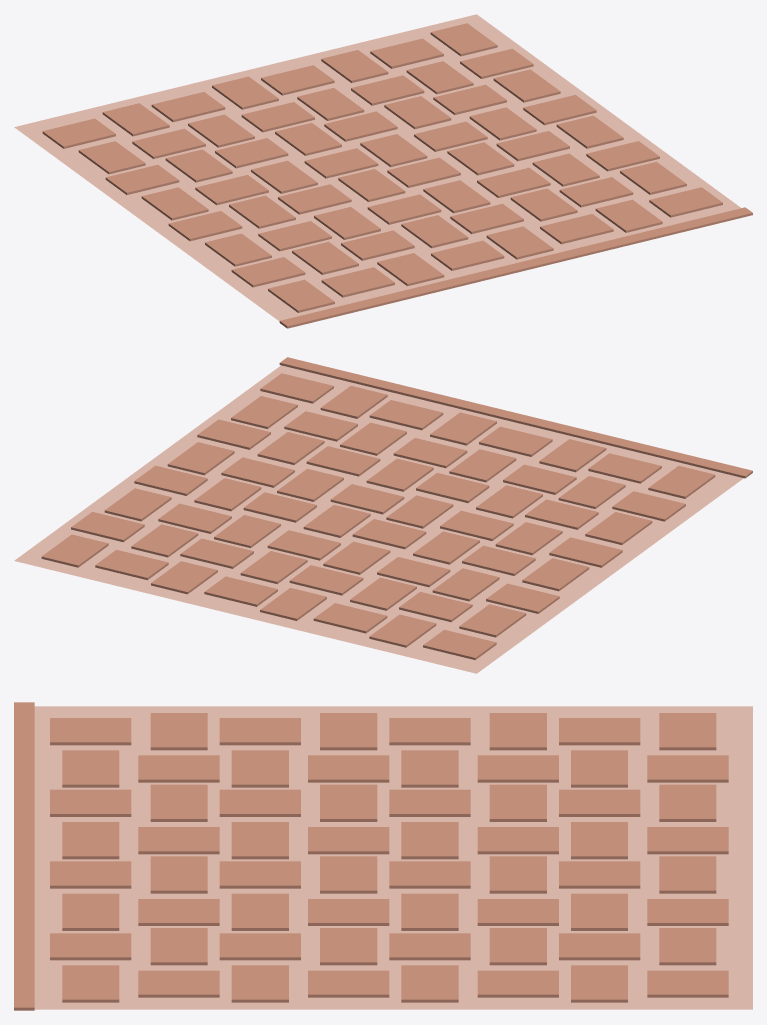
File: TableFloor.fbx
3 renders of one model, top to bottom at view 1: azimuth 30°, elevation 25°; view 2: azimuth 150°, elevation 25°; view 3: azimuth 270°, elevation 25°, orthographic. The views are drawn at different scales.
Parts seen in each view (by area): view 1: Cube.011, Plane.002, Cube.010; view 2: Cube.011, Plane.002, Cube.010; view 3: Cube.011, Plane.002, Cube.010.
Part boxes in pixels (x1,y1,x2,y2): Cube.011: [42, 23, 722, 312]; Plane.002: [14, 14, 741, 321]; Cube.010: [279, 207, 752, 328]; Cube.011: [41, 373, 715, 660]; Plane.002: [14, 365, 743, 673]; Cube.010: [279, 357, 752, 478]; Cube.011: [50, 713, 728, 1002]; Plane.002: [34, 706, 752, 1009]; Cube.010: [14, 702, 34, 1010].
Size of the model in its own units: 1083 by 5 by 1108.
